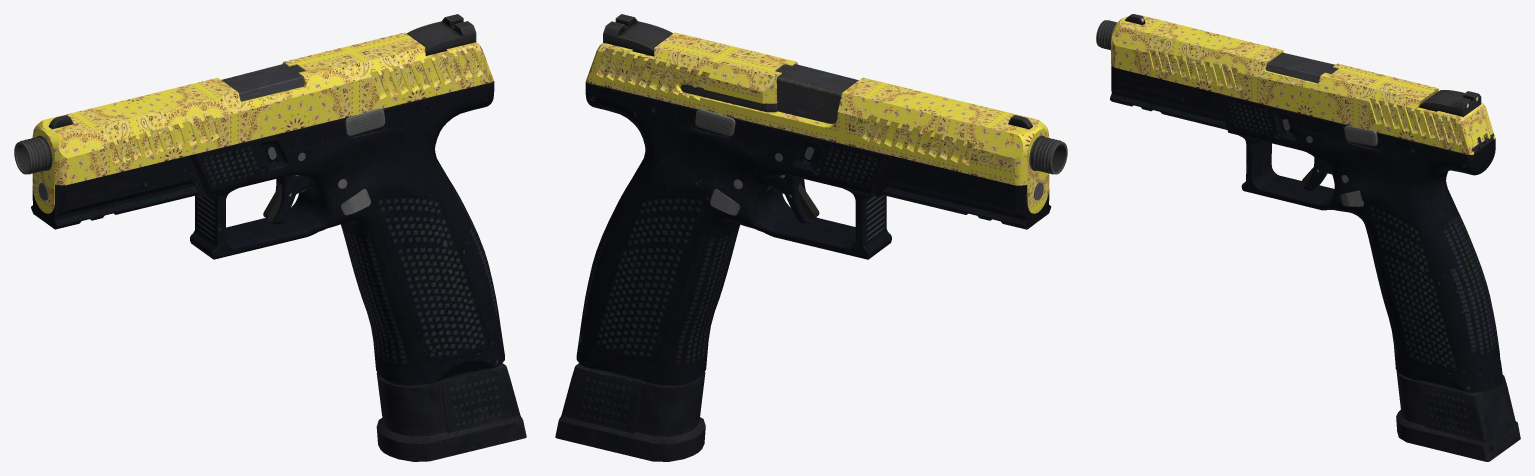
Rendered from weapon_czp10f-y.glb.
3 renders of one model, left to right at view 1: azimuth 30°, elevation 25°; view 2: azimuth 150°, elevation 25°; view 3: azimuth 330°, elevation 25°, orthographic. The views are drawn at different scales.
Visible parts, largest first — view 1: main_frame_czp10f-y, slide_czp10f-y, magazine_czp10f-y, barrel_czp10f-y, rear_sight_czp10f-y, trigger_czp10f-y; view 2: main_frame_czp10f-y, slide_czp10f-y, magazine_czp10f-y, barrel_czp10f-y, rear_sight_czp10f-y, trigger_czp10f-y; view 3: main_frame_czp10f-y, slide_czp10f-y, magazine_czp10f-y, barrel_czp10f-y, rear_sight_czp10f-y, trigger_czp10f-y.
Part boxes in pixels (left/top/right/bottom): main_frame_czp10f-y: left=31, top=81, right=504, bottom=385; slide_czp10f-y: left=32, top=32, right=493, bottom=213; magazine_czp10f-y: left=376, top=363, right=526, bottom=461; barrel_czp10f-y: left=14, top=63, right=304, bottom=174; rear_sight_czp10f-y: left=406, top=14, right=476, bottom=55; trigger_czp10f-y: left=263, top=175, right=311, bottom=224; main_frame_czp10f-y: left=576, top=81, right=1051, bottom=385; slide_czp10f-y: left=586, top=32, right=1049, bottom=213; magazine_czp10f-y: left=555, top=363, right=705, bottom=461; barrel_czp10f-y: left=775, top=64, right=1067, bottom=174; rear_sight_czp10f-y: left=603, top=14, right=672, bottom=56; trigger_czp10f-y: left=769, top=175, right=819, bottom=223; main_frame_czp10f-y: left=1110, top=65, right=1502, bottom=392; slide_czp10f-y: left=1111, top=14, right=1495, bottom=154; magazine_czp10f-y: left=1396, top=370, right=1520, bottom=461; barrel_czp10f-y: left=1096, top=20, right=1337, bottom=83; rear_sight_czp10f-y: left=1419, top=90, right=1481, bottom=116; trigger_czp10f-y: left=1302, top=157, right=1331, bottom=191.
Bounding box in the file's own units: 25.05 × 20.4 × 3.65.
Materials: 2 (2 with a texture image).
